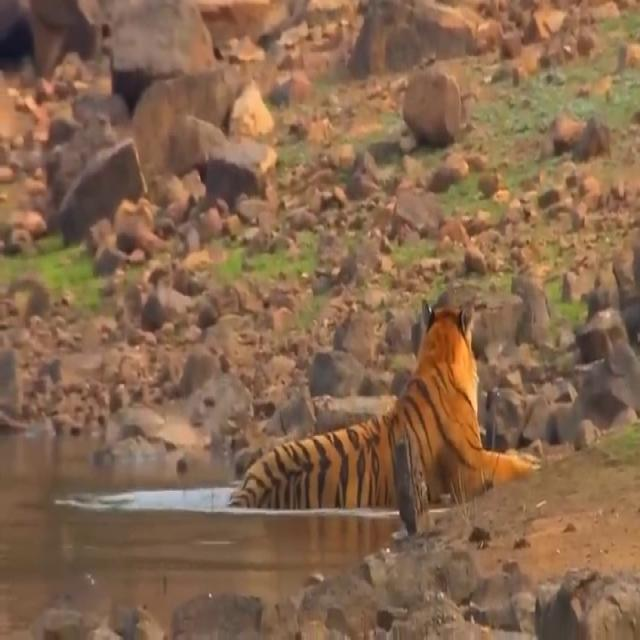tiger: (221, 292, 543, 508)
